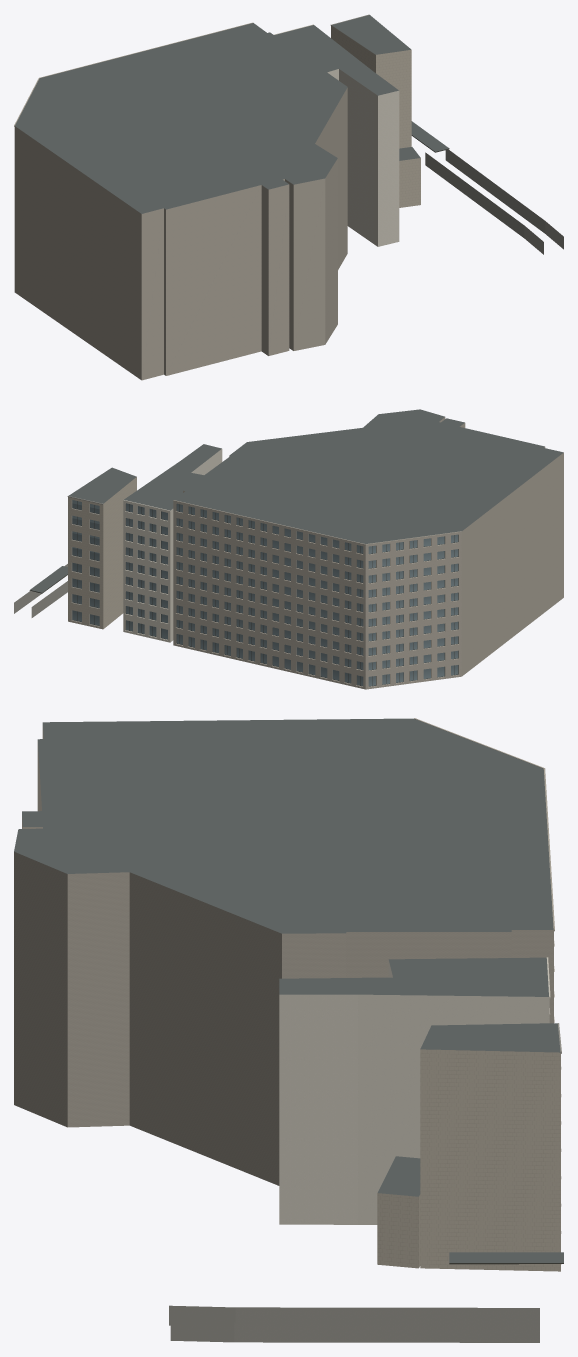
The model's file is near.gltf.
3 views of the same model, one above another, from view 1: azimuth 30°, elevation 25°; view 2: azimuth 150°, elevation 25°; view 3: azimuth 270°, elevation 25° (orthographic). The views are drawn at different scales.
Visible parts, largest first — view 1: cell-e009-s001_near_tile-wall, cell-e009-s001_near_roof, cell-e009-s001_near_plaster, cell-e009-s001_near_stone, cell-e009-s001_near_granite, cell-e009-s001_near_Canopy_roof; view 2: cell-e009-s001_near_tile-wall, cell-e009-s001_near_roof, cell-e009-s001_near_glass, cell-e009-s001_near_stone, cell-e009-s001_near_plaster, cell-e009-s001_near_frame, cell-e009-s001_near_granite, cell-e009-s001_near_Canopy_roof; view 3: cell-e009-s001_near_roof, cell-e009-s001_near_tile-wall, cell-e009-s001_near_plaster, cell-e009-s001_near_stone, cell-e009-s001_near_granite, cell-e009-s001_near_Canopy_roof.
Part boxes in pixels (x1,y1,x2,y2): cell-e009-s001_near_tile-wall: [14, 22, 347, 380]; cell-e009-s001_near_roof: [15, 15, 420, 213]; cell-e009-s001_near_plaster: [274, 24, 399, 246]; cell-e009-s001_near_stone: [331, 25, 420, 207]; cell-e009-s001_near_granite: [330, 14, 563, 254]; cell-e009-s001_near_Canopy_roof: [411, 121, 448, 151]; cell-e009-s001_near_tile-wall: [173, 417, 563, 689]; cell-e009-s001_near_roof: [68, 409, 563, 543]; cell-e009-s001_near_glass: [72, 500, 458, 686]; cell-e009-s001_near_stone: [68, 477, 136, 629]; cell-e009-s001_near_plaster: [123, 449, 222, 642]; cell-e009-s001_near_frame: [72, 501, 458, 686]; cell-e009-s001_near_granite: [14, 496, 103, 626]; cell-e009-s001_near_Canopy_roof: [30, 566, 67, 592]; cell-e009-s001_near_roof: [14, 718, 560, 1196]; cell-e009-s001_near_tile-wall: [14, 718, 554, 1185]; cell-e009-s001_near_plaster: [279, 957, 550, 1224]; cell-e009-s001_near_stone: [377, 1049, 560, 1271]; cell-e009-s001_near_granite: [169, 1023, 561, 1342]; cell-e009-s001_near_Canopy_roof: [449, 1252, 563, 1262].
Bounding box in the file's own units: 92.95 × 33.82 × 61.55.
Materials: 7 (5 with a texture image).
